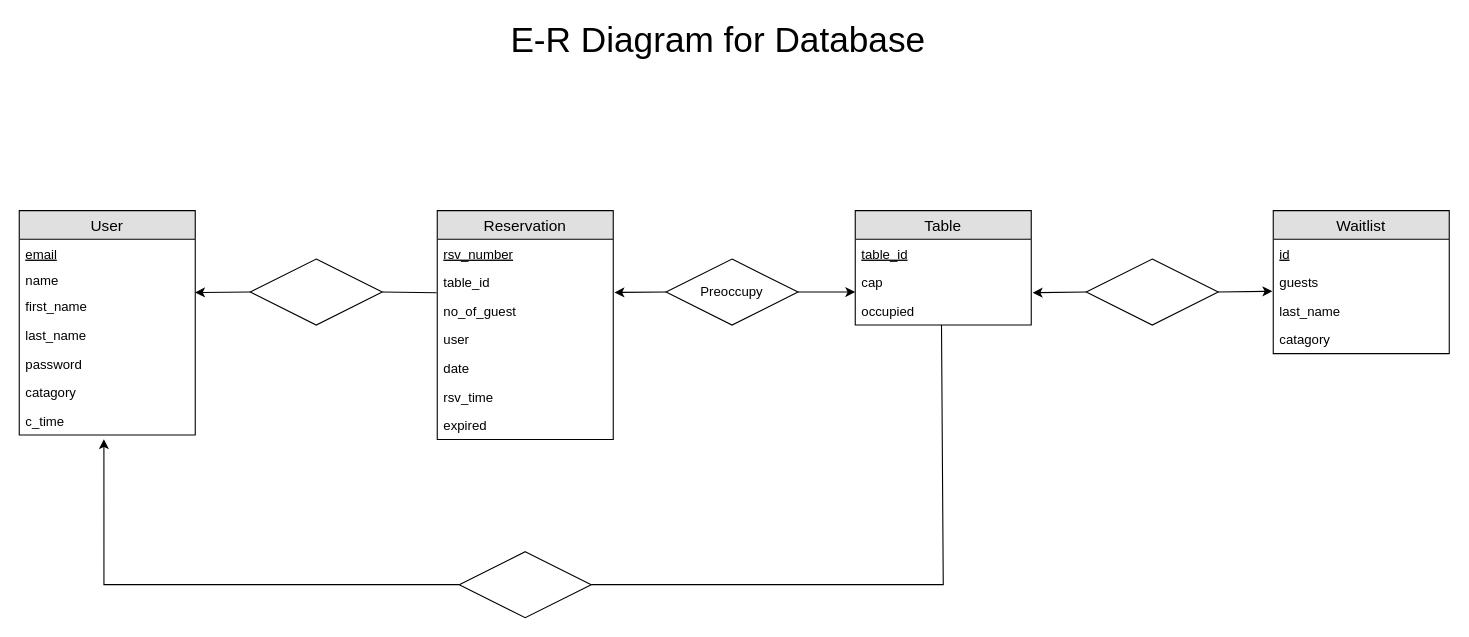
This 1469x637 diagram has some shape labels left out. Each missing label, with the centre of its shape:
"Assign" belongs at [1151,291].
"Book" belongs at [315,291].
"Occupy" belongs at [524,584].
